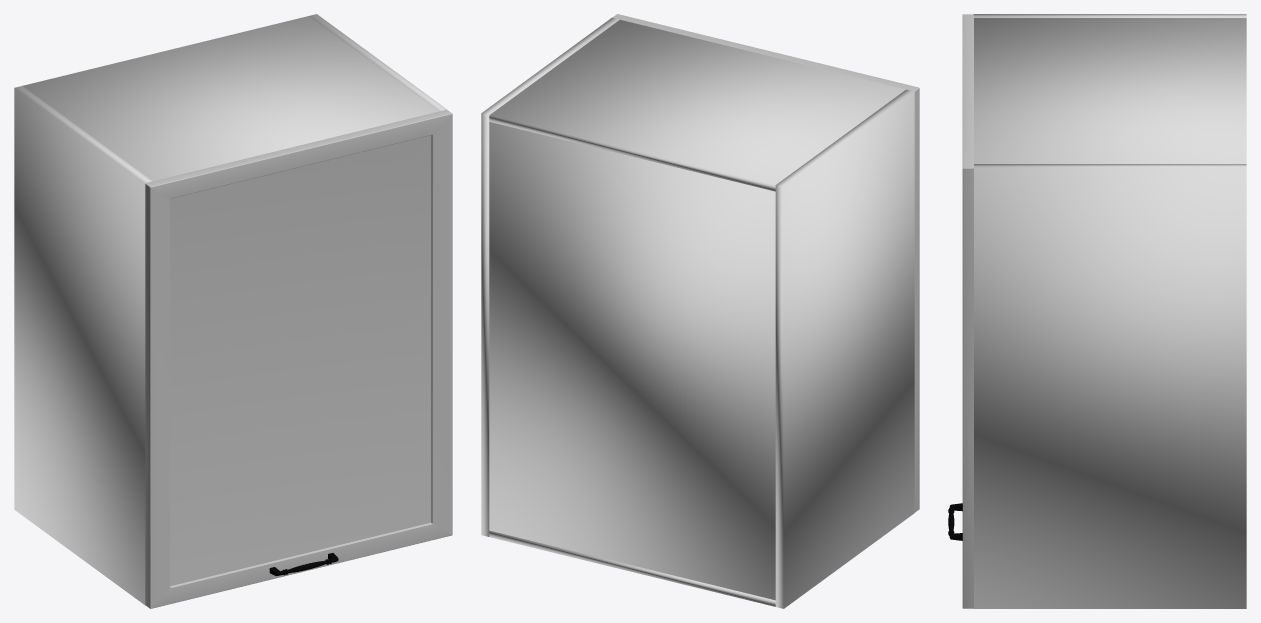
The model's file is cupboard_tall.fbx.
3 views of the same model, side by side, from view 1: azimuth 30°, elevation 25°; view 2: azimuth 150°, elevation 25°; view 3: azimuth 270°, elevation 25° (orthographic). The views are drawn at different scales.
Parts seen in each view (by area): view 1: skap1_hogre_facade, skap_hogre_base; view 2: skap_hogre_base, skap1_hogre_facade; view 3: skap_hogre_base, skap1_hogre_facade.
Part boxes in pixels (<box>): skap1_hogre_facade: <box>145,109,452,608</box>; skap_hogre_base: <box>14,14,447,605</box>; skap_hogre_base: <box>481,17,914,608</box>; skap1_hogre_facade: <box>613,14,919,512</box>; skap_hogre_base: <box>973,14,1246,608</box>; skap1_hogre_facade: <box>962,14,973,608</box>.
Size of the model in its own units: 60 by 49.07 by 80.
